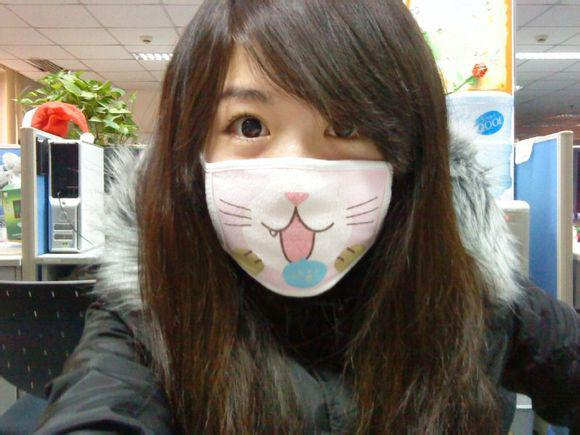OK: (194, 74, 400, 280)
